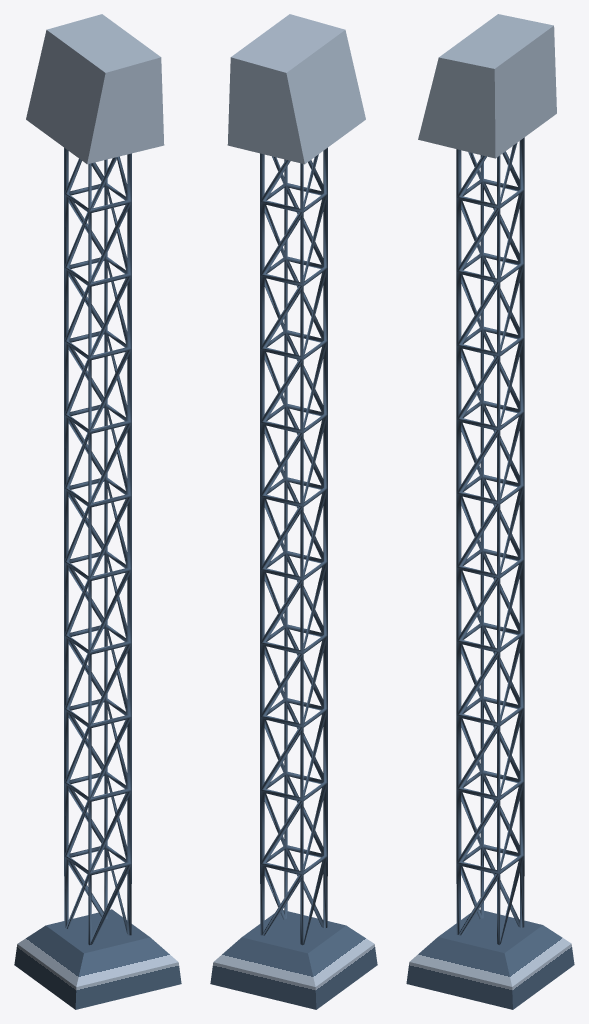
The model's file is Cartel_Grande.fbx.
3 views of the same model, side by side, from view 1: azimuth 30°, elevation 25°; view 2: azimuth 150°, elevation 25°; view 3: azimuth 330°, elevation 25° (orthographic).
Parts seen in each view (by area): view 1: Cartel_Grande; view 2: Cartel_Grande; view 3: Cartel_Grande.
Part boxes in pixels (left/top/right/bottom): Cartel_Grande: left=14, top=14, right=181, bottom=1009; Cartel_Grande: left=210, top=14, right=377, bottom=1009; Cartel_Grande: left=406, top=14, right=574, bottom=1009.
Bounding box in the file's own units: 223 × 1869 × 223.
